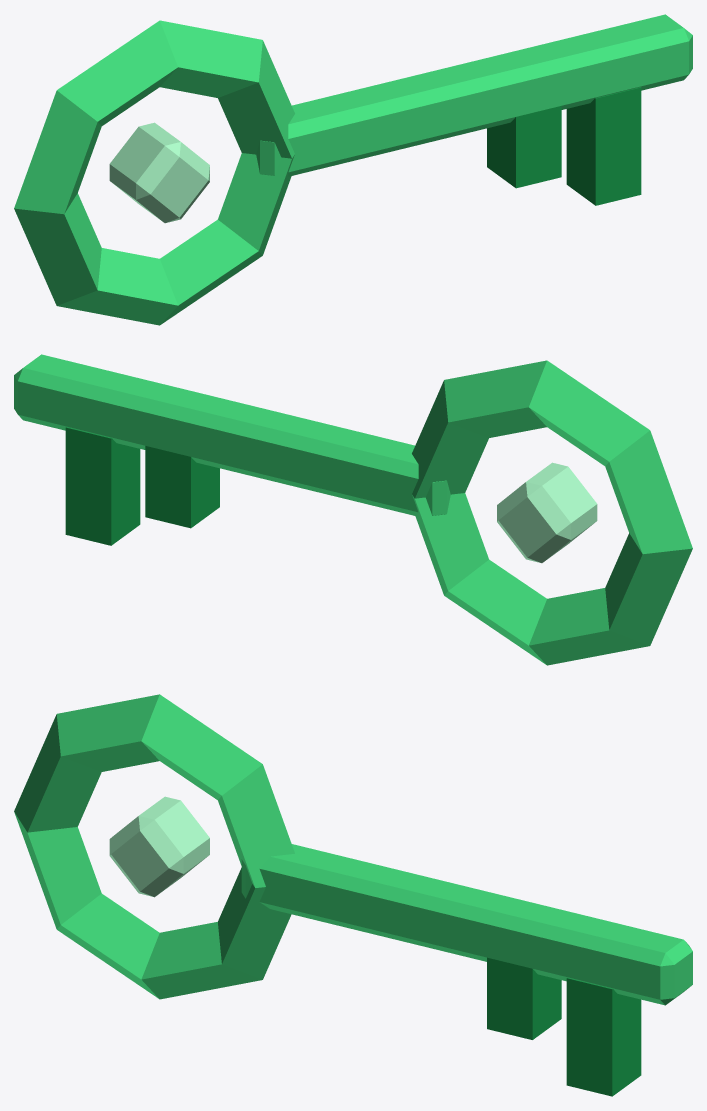
The model's file is EmeraldKey.fbx.
3 views of the same model, one above another, from view 1: azimuth 30°, elevation 25°; view 2: azimuth 150°, elevation 25°; view 3: azimuth 330°, elevation 25° (orthographic).
Parts seen in each view (by area): view 1: EmeraldKey; view 2: EmeraldKey; view 3: EmeraldKey.
Boxes of the visible parts, x1,y1,x2,y2 form: EmeraldKey: [14, 14, 692, 325]; EmeraldKey: [14, 354, 692, 665]; EmeraldKey: [14, 694, 692, 1096].
Size of the model in its own units: 2.94 by 1.28 by 0.3.
1 material, 1 textured.
